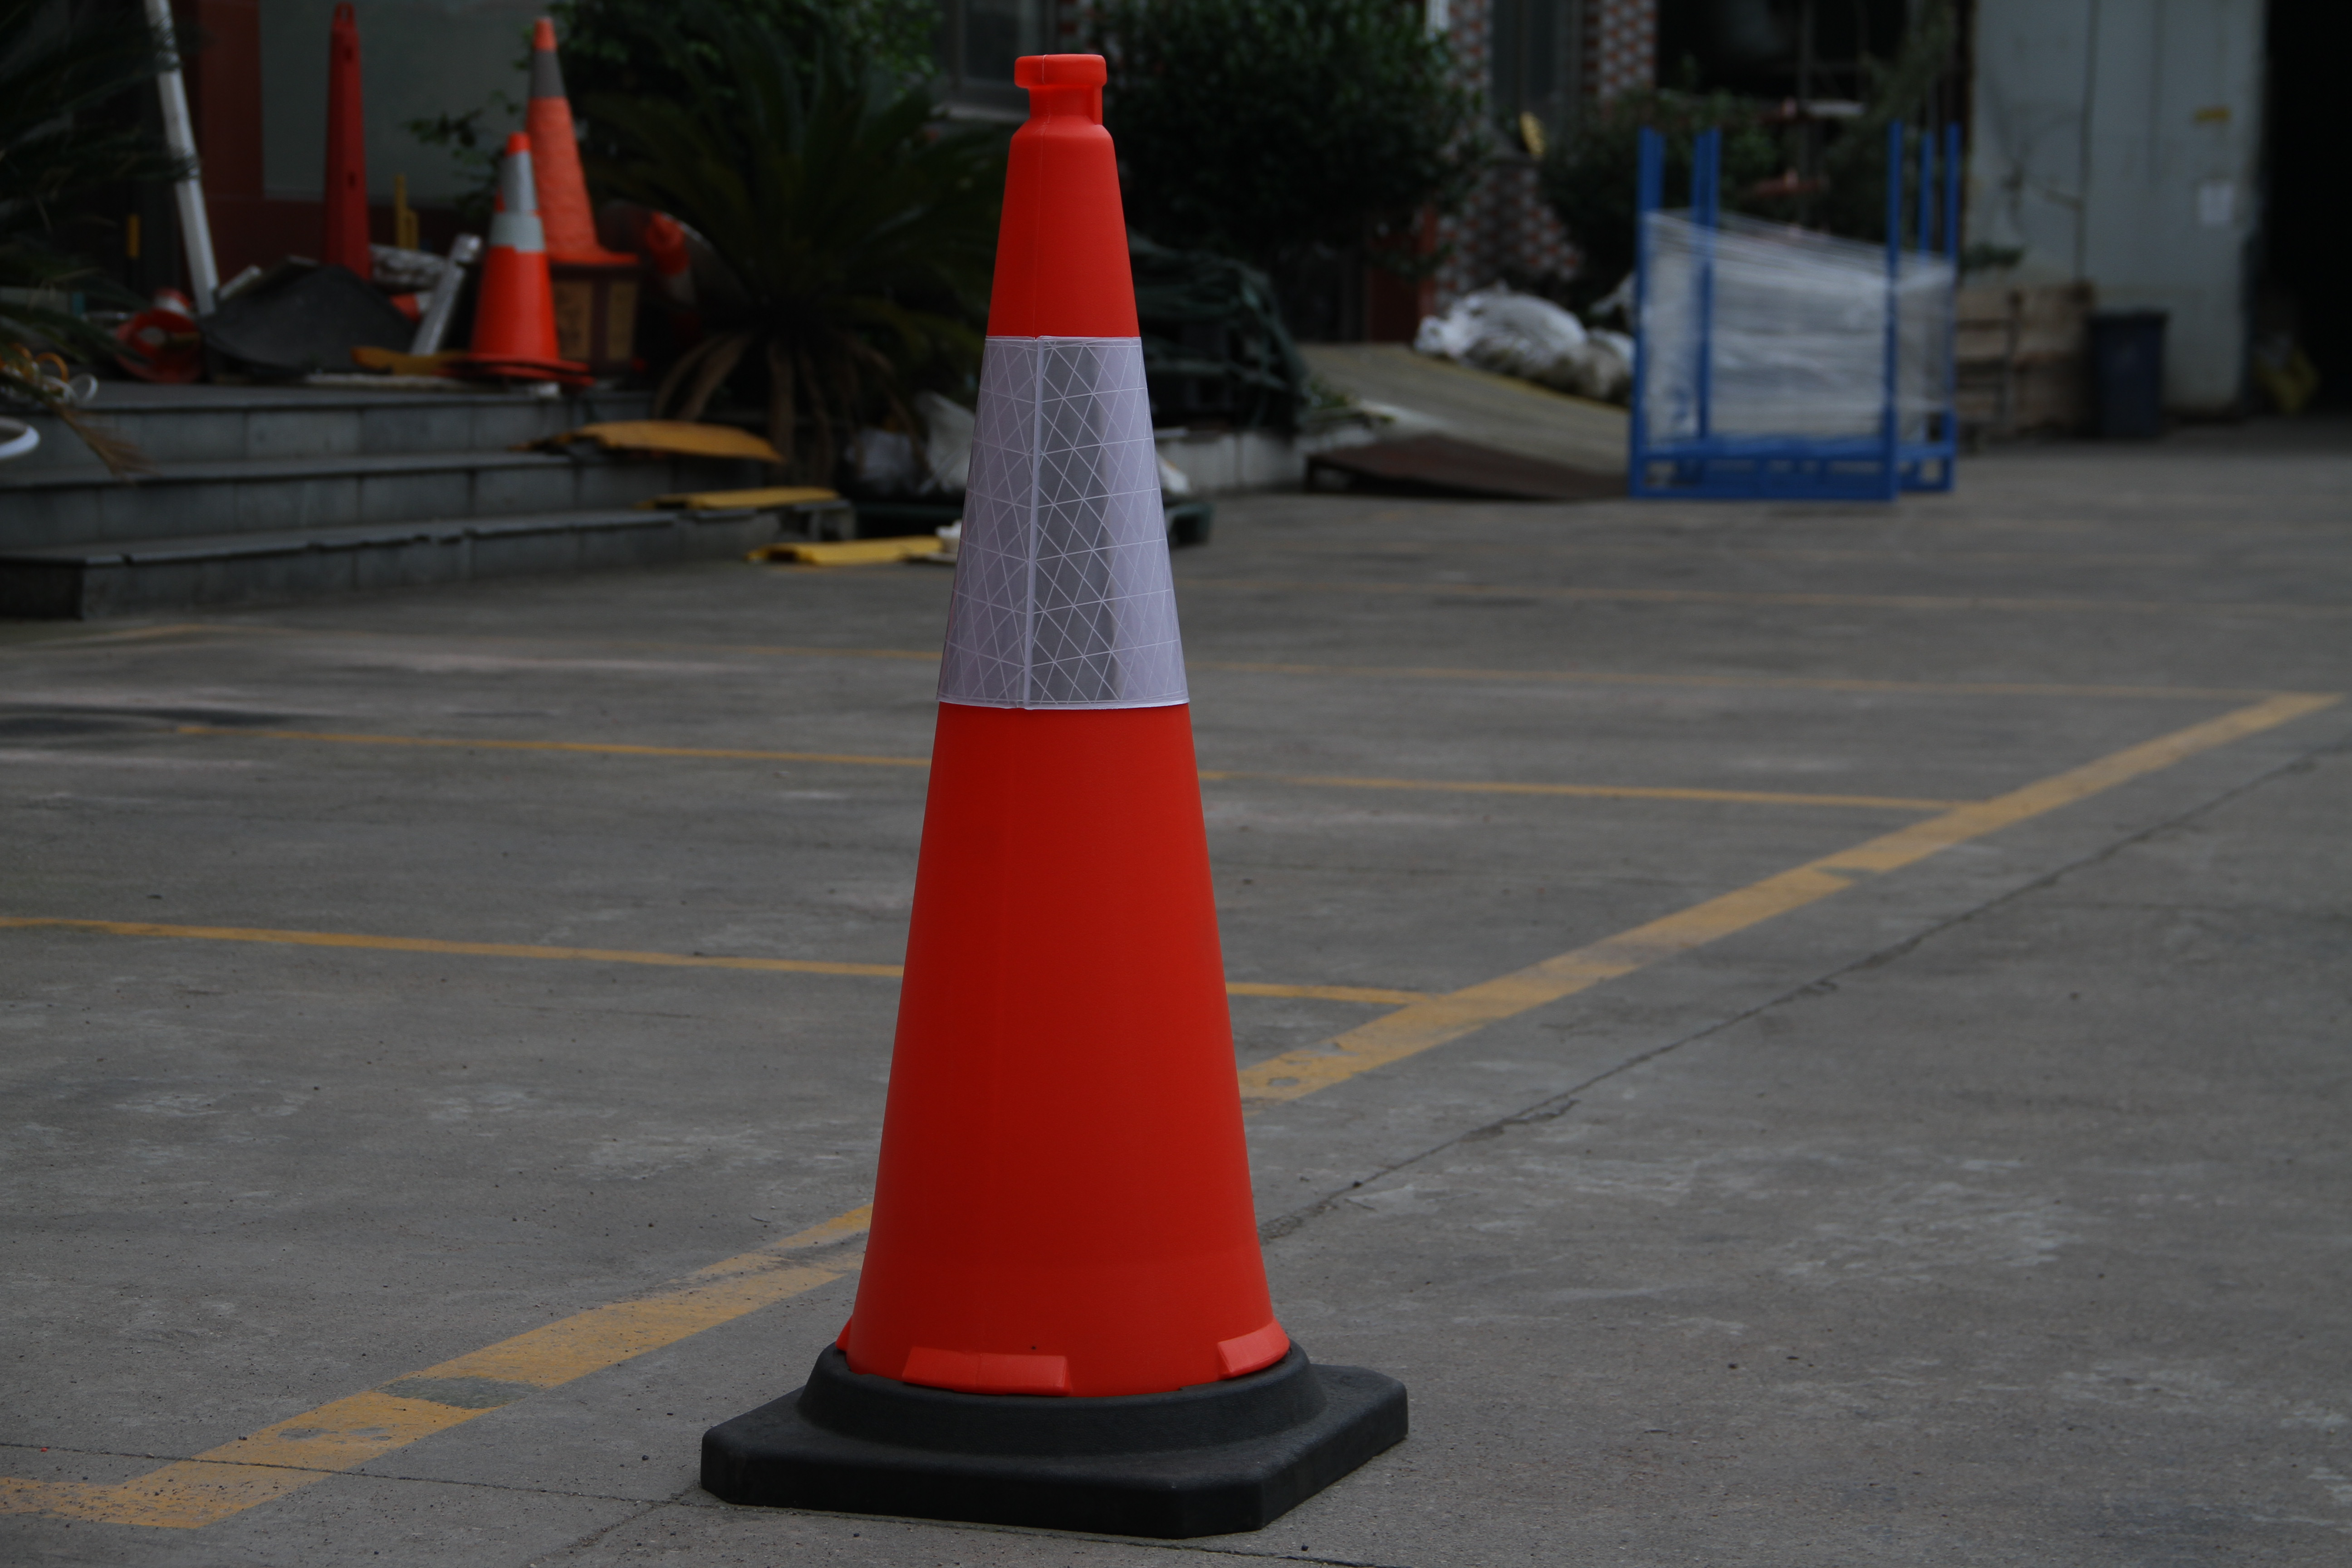cone: (689, 51, 1426, 1538)
